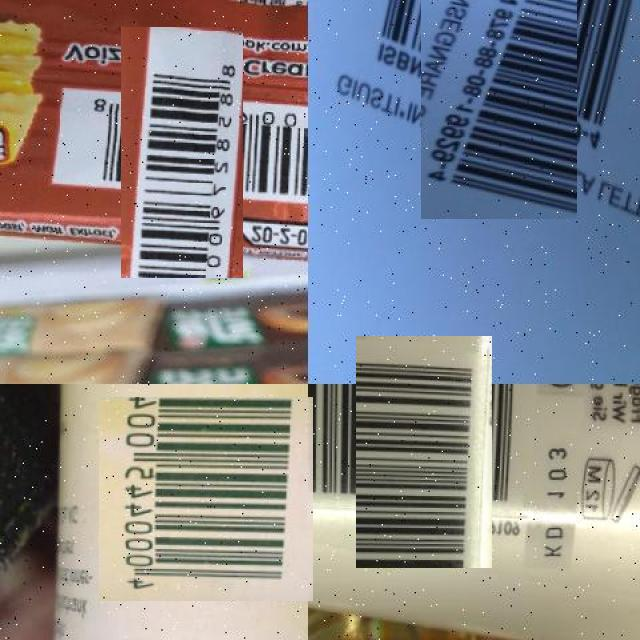Barcode: (101, 395, 311, 604), (389, 0, 609, 187), (88, 58, 276, 246), (332, 360, 516, 545)
